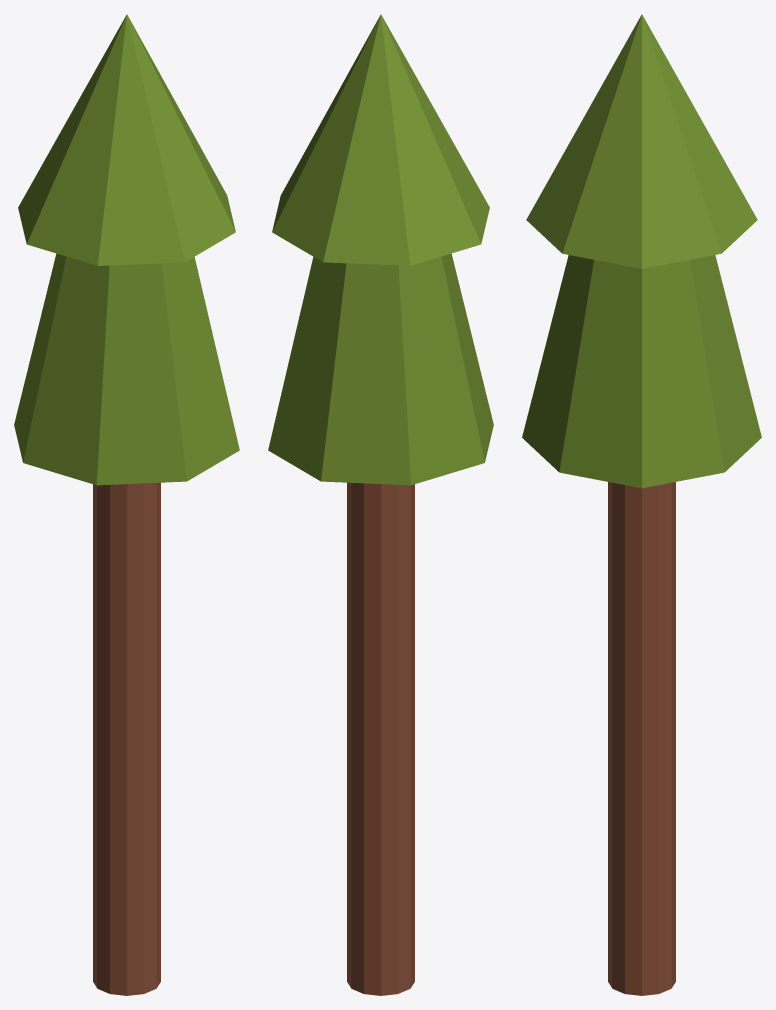
The model's file is tree5.glb.
3 views of the same model, side by side, from view 1: azimuth 30°, elevation 25°; view 2: azimuth 150°, elevation 25°; view 3: azimuth 270°, elevation 25° (orthographic).
Visible parts, largest first — view 1: Tree_21_autumn; view 2: Tree_21_autumn; view 3: Tree_21_autumn.
Boxes of the visible parts, x1,y1,x2,y2 form: Tree_21_autumn: (14, 14, 239, 995); Tree_21_autumn: (268, 14, 493, 995); Tree_21_autumn: (522, 14, 761, 995).
Bounding box in the file's own units: 0.7792 × 3.47 × 0.7792.
1 material, 1 textured.
